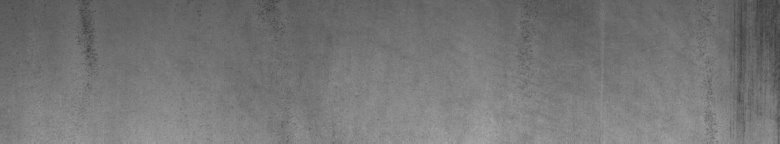ka: (701, 4, 776, 125)
